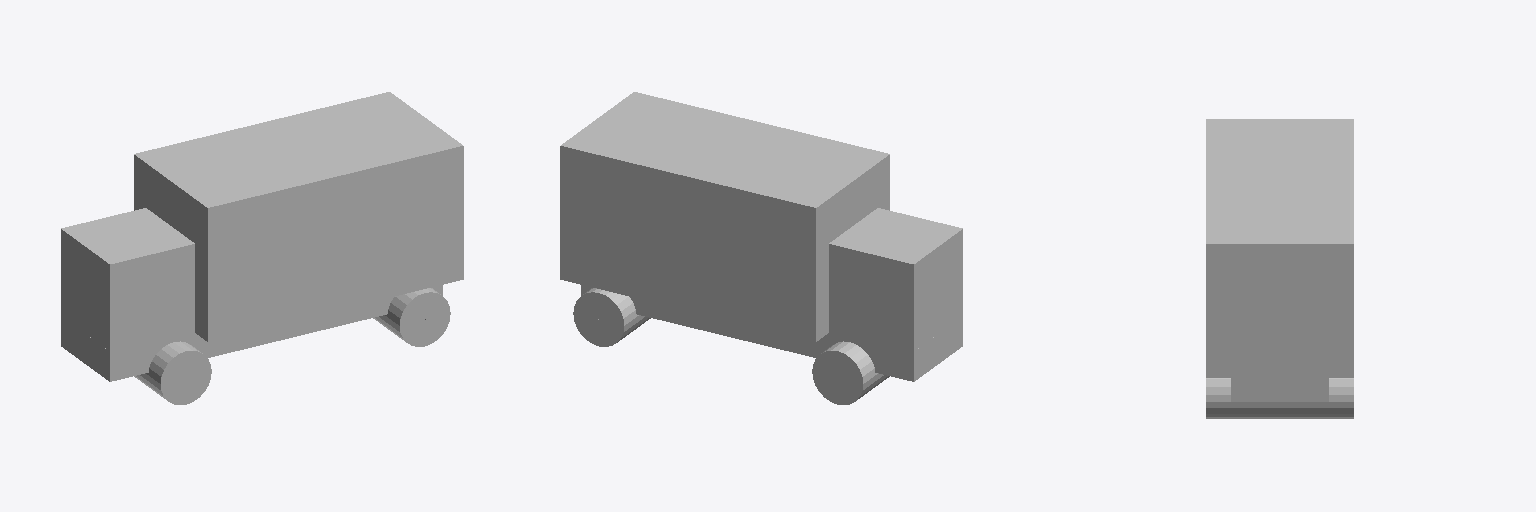
The model's file is truck.obj.
The picture shows the model from 3 angles: view 1: azimuth 30°, elevation 25°; view 2: azimuth 150°, elevation 25°; view 3: azimuth 270°, elevation 25°; orthographic projection.
Visible parts, largest first — view 1: 004_Box, 003_Box_1, 000_Box_2, 001_Tube_1, 002_Tube; view 2: 004_Box, 003_Box_1, 000_Box_2, 001_Tube_1, 002_Tube; view 3: 004_Box, 002_Tube, 000_Box_2.
Part boxes in pixels (left/top/right/bottom): 004_Box: left=134, top=92, right=463, bottom=341; 003_Box_1: left=61, top=208, right=194, bottom=351; 000_Box_2: left=61, top=285, right=442, bottom=381; 001_Tube_1: left=134, top=341, right=211, bottom=404; 002_Tube: left=373, top=288, right=450, bottom=346; 004_Box: left=560, top=92, right=889, bottom=341; 003_Box_1: left=829, top=208, right=962, bottom=351; 000_Box_2: left=581, top=285, right=962, bottom=381; 001_Tube_1: left=812, top=341, right=889, bottom=404; 002_Tube: left=573, top=288, right=650, bottom=346; 004_Box: left=1206, top=119, right=1353, bottom=377; 002_Tube: left=1206, top=378, right=1353, bottom=418; 000_Box_2: left=1231, top=378, right=1328, bottom=401.
Bounding box in the file's own units: 200 × 107 × 75.